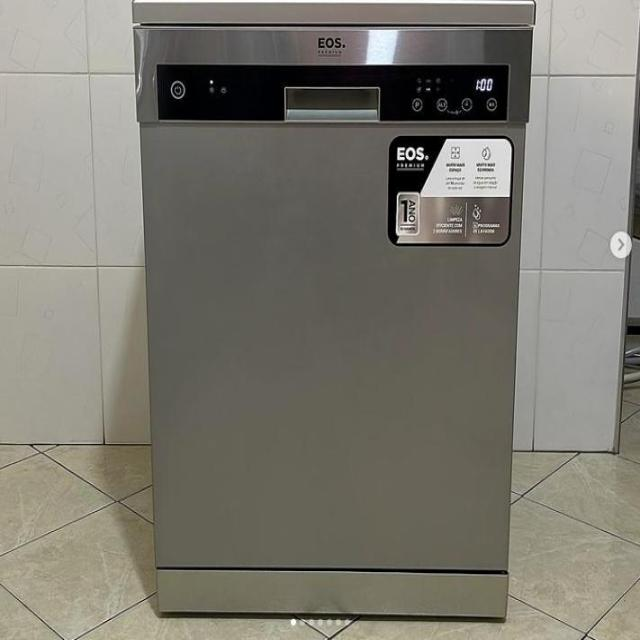dishwasher: (134, 21, 508, 620)
